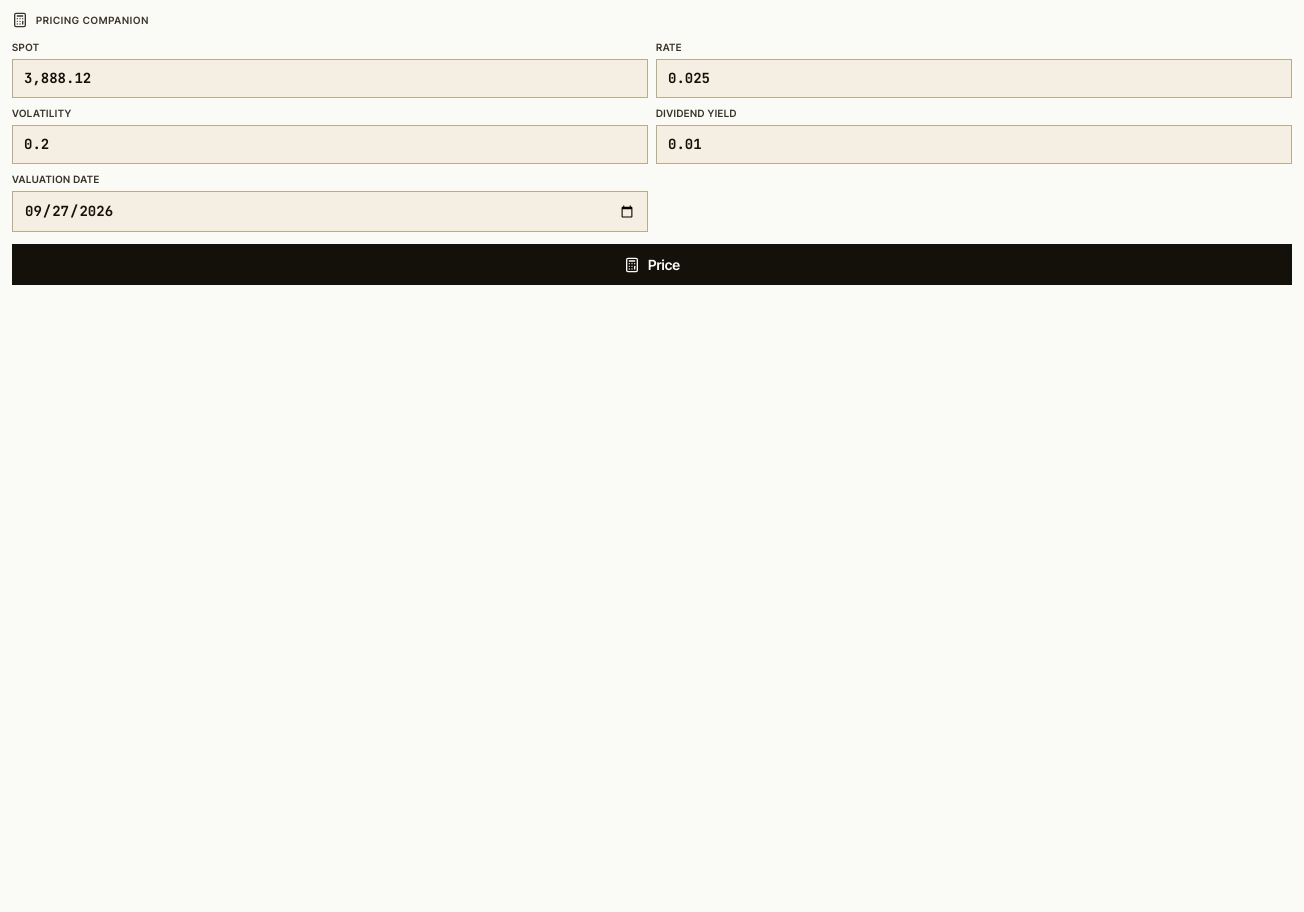
Scenario: BookingPricingCompanion › scales PV and every greek by a signed quantity (sell negates)
Expected: the field labelled "Spot" is shown, x1=12 y1=59 x2=648 y2=98
Click the button "Price": click(652, 264) x1=12 y1=244 x2=1292 y2=285
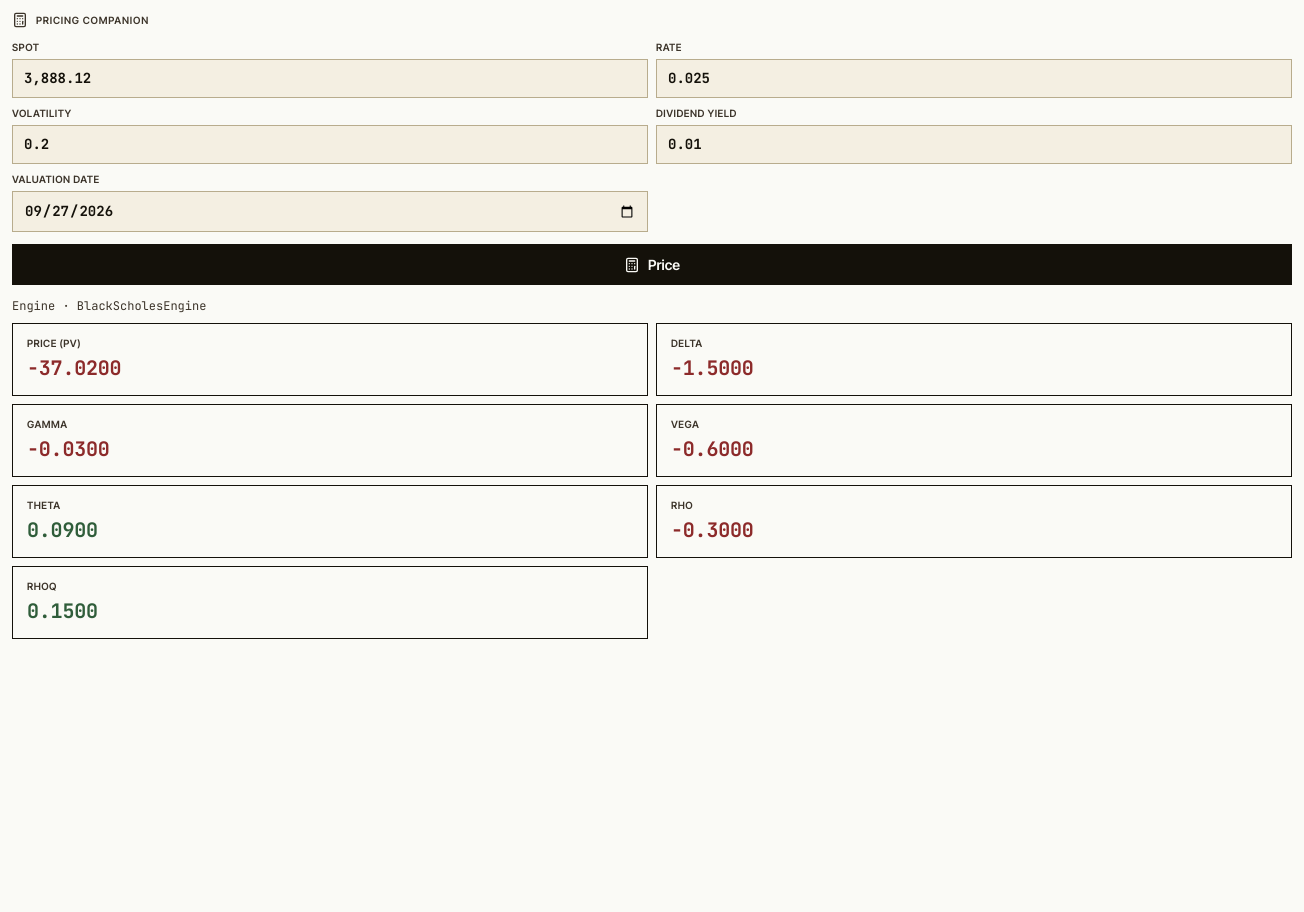
Expected: the text "-37.0200" is shown, x1=27 y1=355 x2=121 y2=381
Expected: the text "-1.5000" is shown, x1=671 y1=355 x2=754 y2=381
Expected: the text "0.0900" is shown, x1=27 y1=517 x2=98 y2=543
